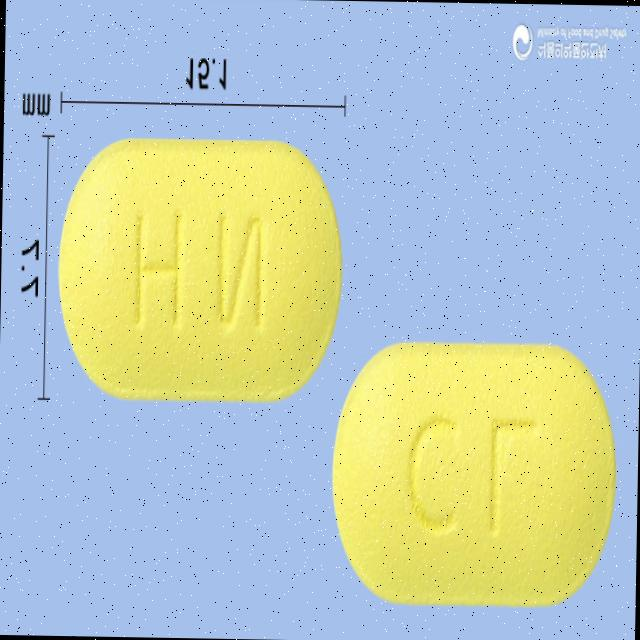Cyclin: (329, 336, 620, 610), (52, 139, 346, 409)
